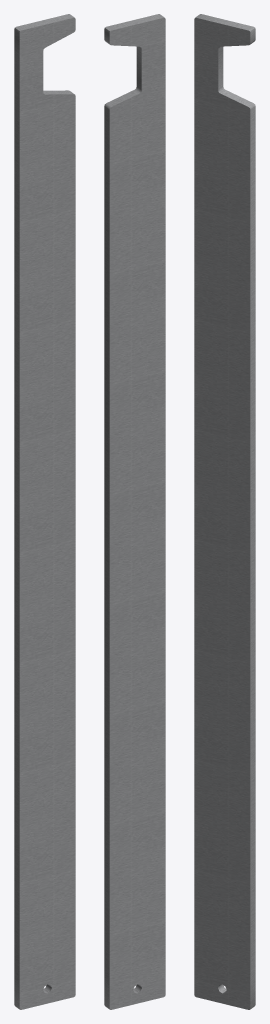
Rendered from props_lift_door_opener.fbx.
The picture shows the model from 3 angles, left to right: view 1: azimuth 30°, elevation 25°; view 2: azimuth 210°, elevation 25°; view 3: azimuth 330°, elevation 25°; orthographic projection.
Parts seen in each view (by area): view 1: props_lift_door_opener_geo; view 2: props_lift_door_opener_geo; view 3: props_lift_door_opener_geo.
Boxes of the visible parts, x1,y1,x2,y2 form: props_lift_door_opener_geo: [14, 14, 75, 1009]; props_lift_door_opener_geo: [104, 14, 165, 1009]; props_lift_door_opener_geo: [194, 14, 255, 1009].
Size of the model in its own units: 0.0423 by 0.7059 by 0.00678.
1 material, 1 textured.
